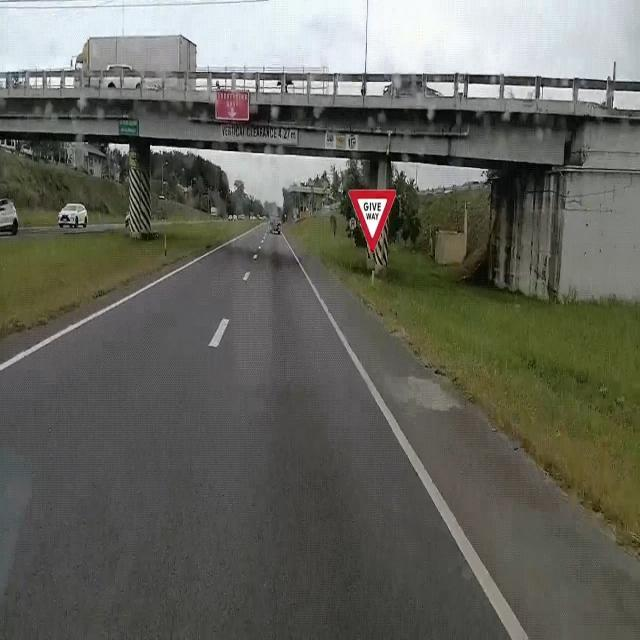Ceder-le-Passage: (343, 178, 405, 263)
